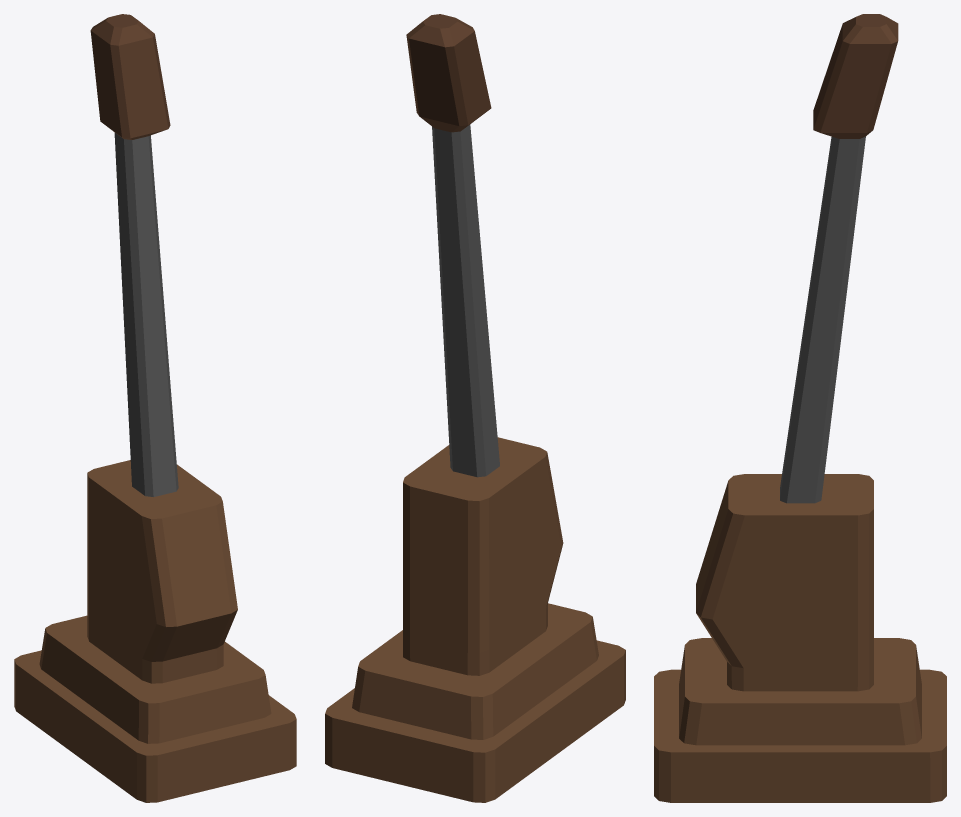
The model's file is Lever.fbx.
The picture shows the model from 3 angles, left to right: view 1: azimuth 30°, elevation 25°; view 2: azimuth 150°, elevation 25°; view 3: azimuth 270°, elevation 25°; orthographic projection. The views are drawn at different scales.
Visible parts, largest first — view 1: Lever; view 2: Lever; view 3: Lever.
Boxes of the visible parts, x1,y1,x2,y2 form: Lever: (14,14,296,802); Lever: (325,14,625,802); Lever: (654,14,946,802).
Size of the model in its own units: 134 by 559 by 200.
